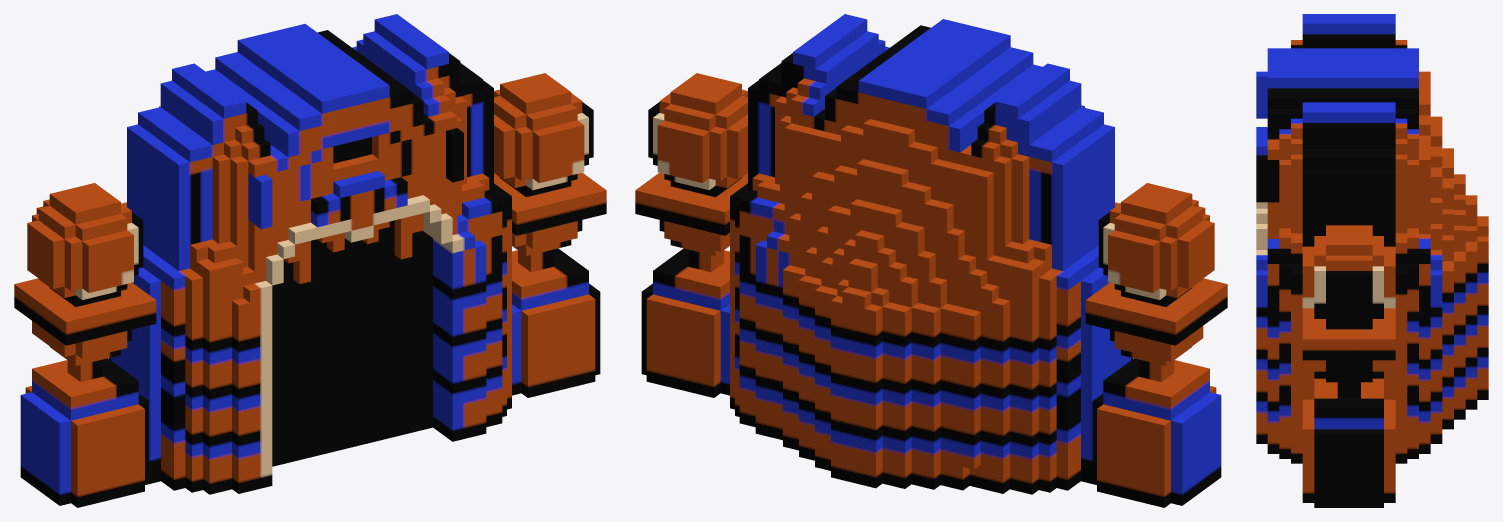
Rendered from TempleEntranceOneEyeRed.obj.
3 views of the same model, side by side, from view 1: azimuth 30°, elevation 25°; view 2: azimuth 150°, elevation 25°; view 3: azimuth 270°, elevation 25° (orthographic). The views are drawn at different scales.
Visible parts, largest first — view 1: Matrix; view 2: Matrix; view 3: Matrix.
Part boxes in pixels (x1,y1,x2,y2): Matrix: [14, 14, 606, 507]; Matrix: [635, 14, 1227, 507]; Matrix: [1256, 14, 1488, 507].
Bounding box in the file's own units: 4.8 × 3.1 × 2.
1 material, 1 textured.
